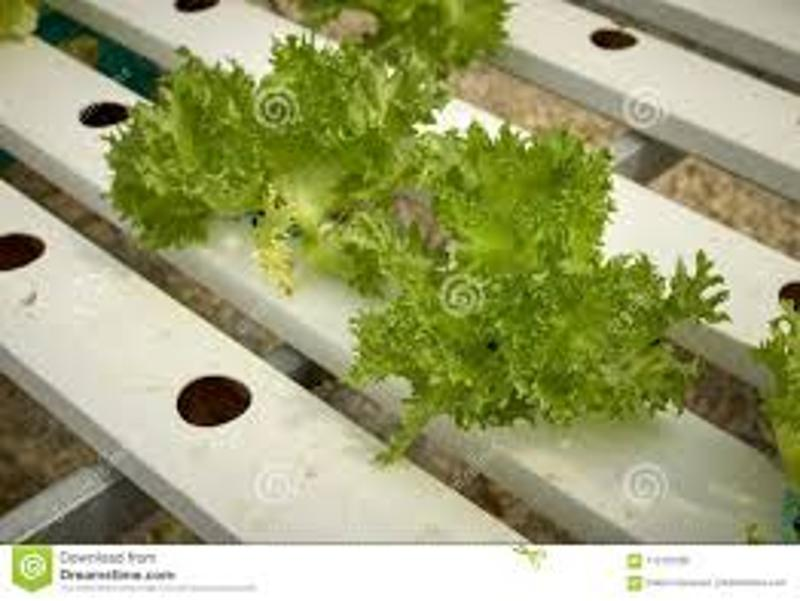green lettuce: (364, 128, 699, 441), (127, 29, 442, 273)
